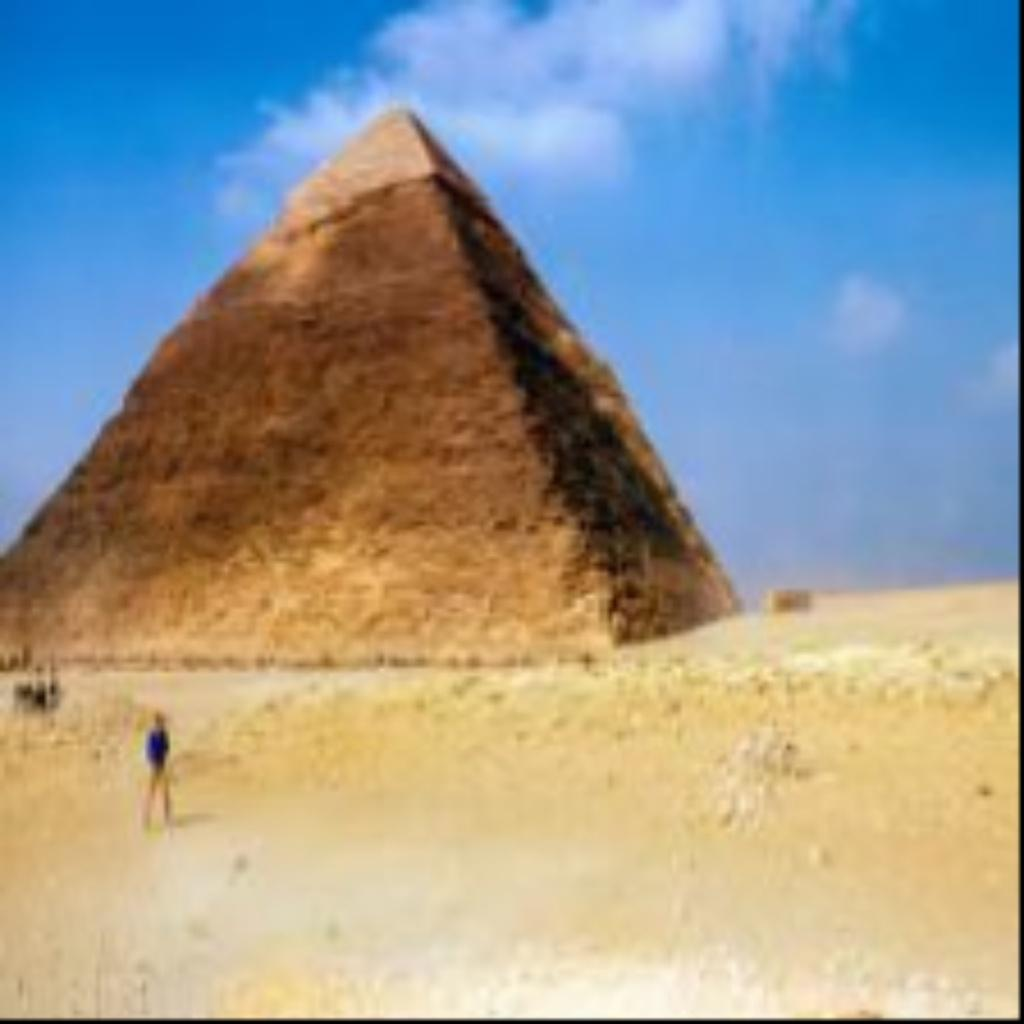Great Pyramids of Giza: (0, 96, 741, 672)
